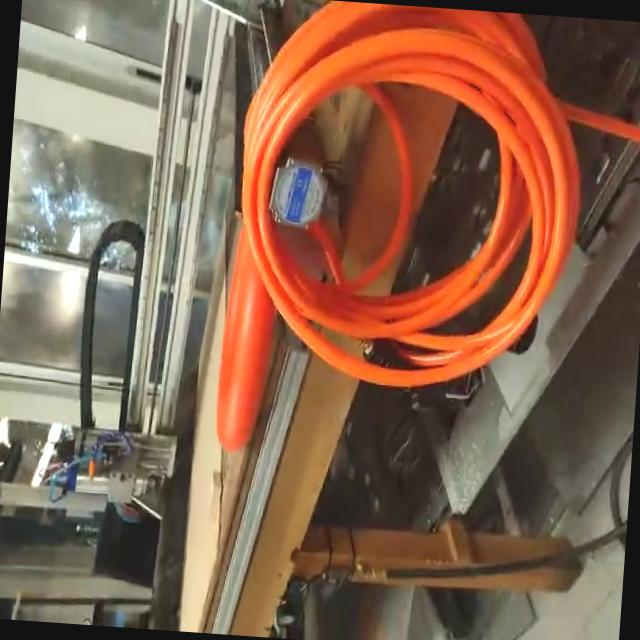note: (211, 224, 281, 456)
